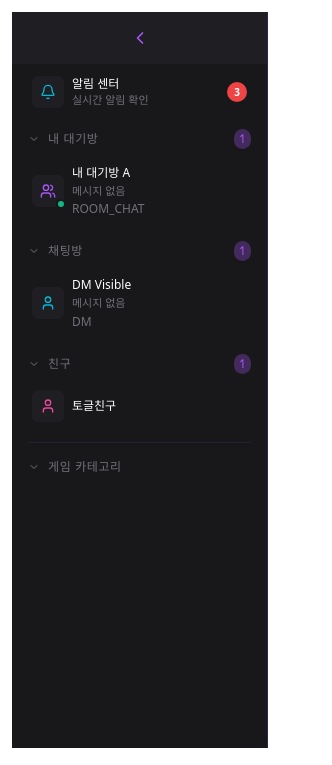
Test: Sidebar › toggles friend section open/closed
The width and height of the screenshot is (332, 765).
Expected: the text "DM Visible" is shown, [72,277,131,293]
Expected: the text "토글친구" is shown, [72,396,116,414]
Click the button "친구 1": [140, 364] box [12,346,267,382]
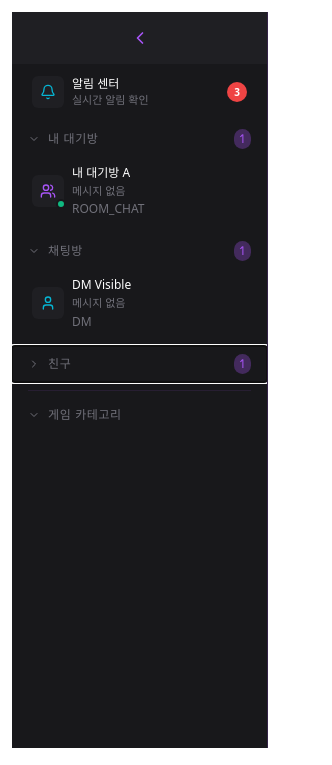
Now the button "토글친구" is gone
Click the button "친구 1": [140, 364] box [12,346,267,382]
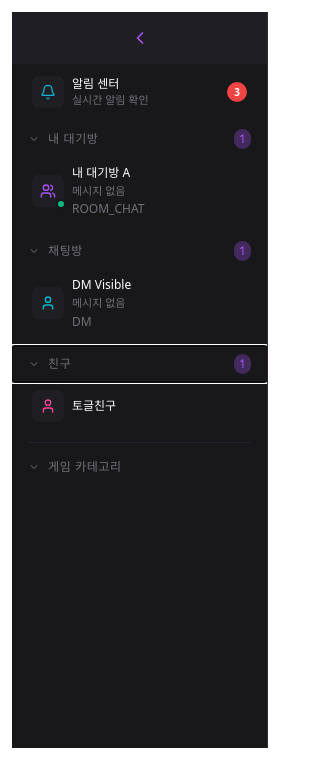
Now the text "토글친구" is shown, box [72,396,116,414]
